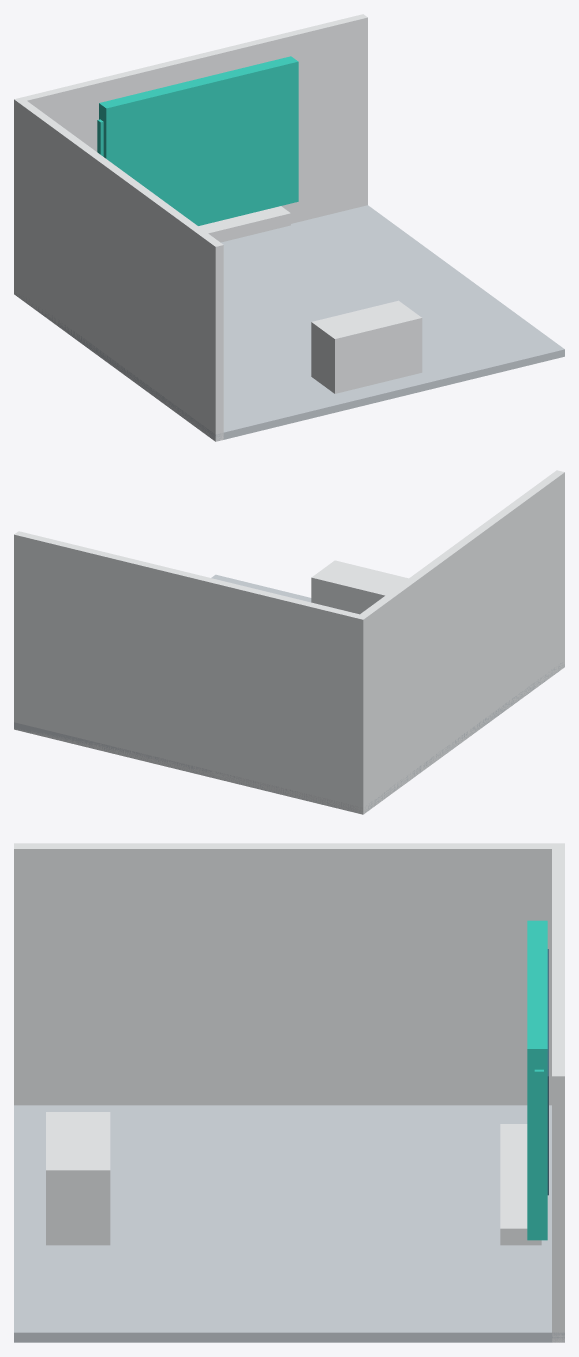
3 renders of one model, top to bottom at view 1: azimuth 30°, elevation 25°; view 2: azimuth 150°, elevation 25°; view 3: azimuth 270°, elevation 25°, orthographic. The views are drawn at different scales.
Visible parts, largest first — view 1: Exhibition Booth Concept; view 2: Exhibition Booth Concept; view 3: Exhibition Booth Concept.
Boxes of the visible parts, x1,y1,x2,y2 form: Exhibition Booth Concept: (14, 14, 564, 441); Exhibition Booth Concept: (14, 470, 564, 814); Exhibition Booth Concept: (14, 843, 564, 1342).
Size of the model in its own units: 6 by 3.2 by 6.
